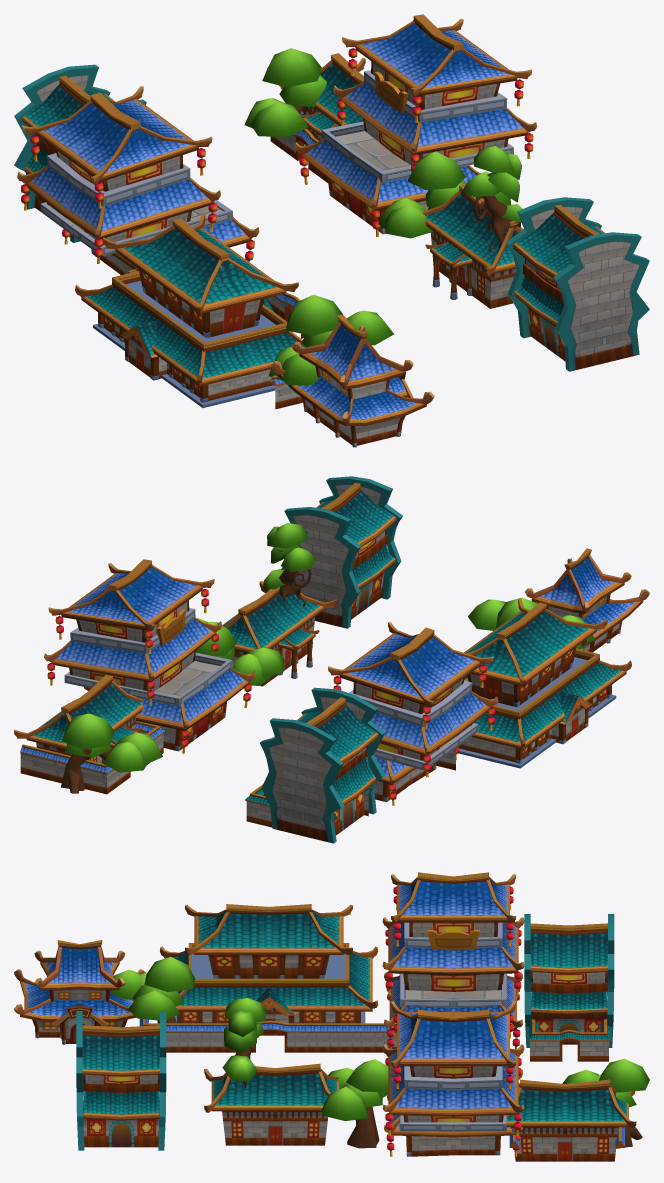
The model's file is scenery_02.FBX.
The picture shows the model from 3 angles, top to bottom: view 1: azimuth 30°, elevation 25°; view 2: azimuth 150°, elevation 25°; view 3: azimuth 270°, elevation 25°; orthographic projection. The views are drawn at different scales.
Visible parts, largest first — view 1: scenery_02; view 2: scenery_02; view 3: scenery_02.
Part boxes in pixels (x1,y1,x2,y2): scenery_02: (14,14,649,447); scenery_02: (14,476,649,843); scenery_02: (14,872,649,1161).
Size of the model in its own units: 2604 by 3504 by 882.
